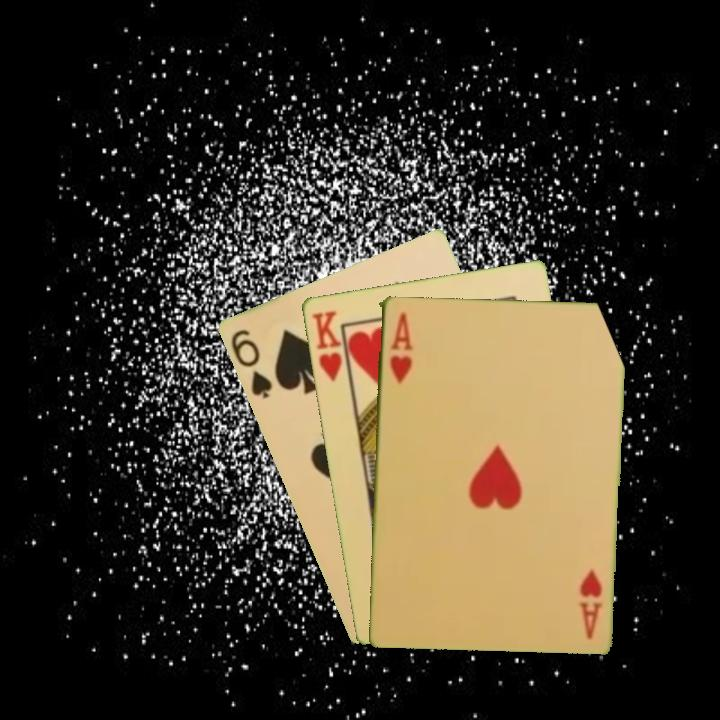6s: (227, 325, 275, 402)
Ah: (386, 308, 414, 386), (578, 565, 605, 642)
Kh: (308, 307, 352, 386)
